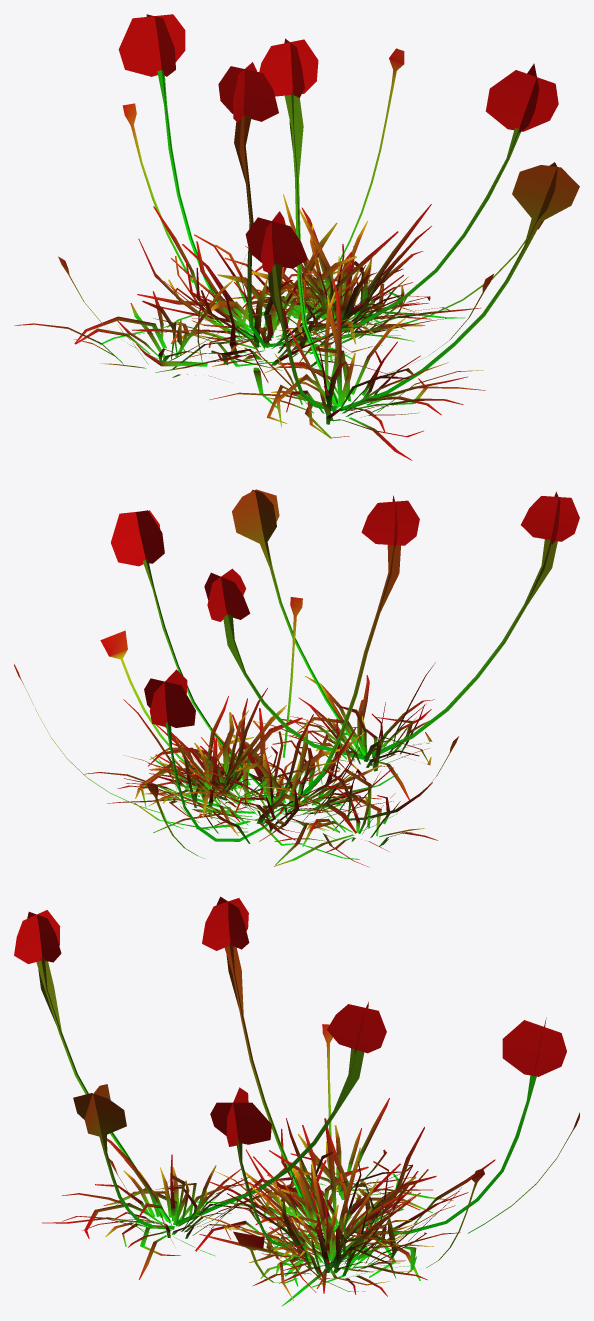
File: Var2_LOD2.fbx
3 views of the same model, one above another, from view 1: azimuth 30°, elevation 25°; view 2: azimuth 150°, elevation 25°; view 3: azimuth 270°, elevation 25° (orthographic). The views are drawn at different scales.
Visible parts, largest first — view 1: _fd2h_Var2_LOD2; view 2: _fd2h_Var2_LOD2; view 3: _fd2h_Var2_LOD2.
Boxes of the visible parts, x1,y1,x2,y2 form: _fd2h_Var2_LOD2: (14,14,579,460); _fd2h_Var2_LOD2: (14,489,579,867); _fd2h_Var2_LOD2: (14,896,579,1306).
Size of the model in its own units: 30.97 by 22.66 by 37.21.
